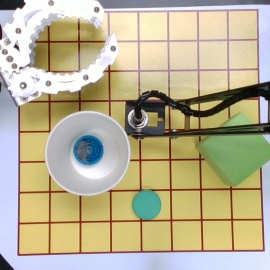cup_blue: (45, 111, 130, 199)
green: (133, 190, 161, 219)
